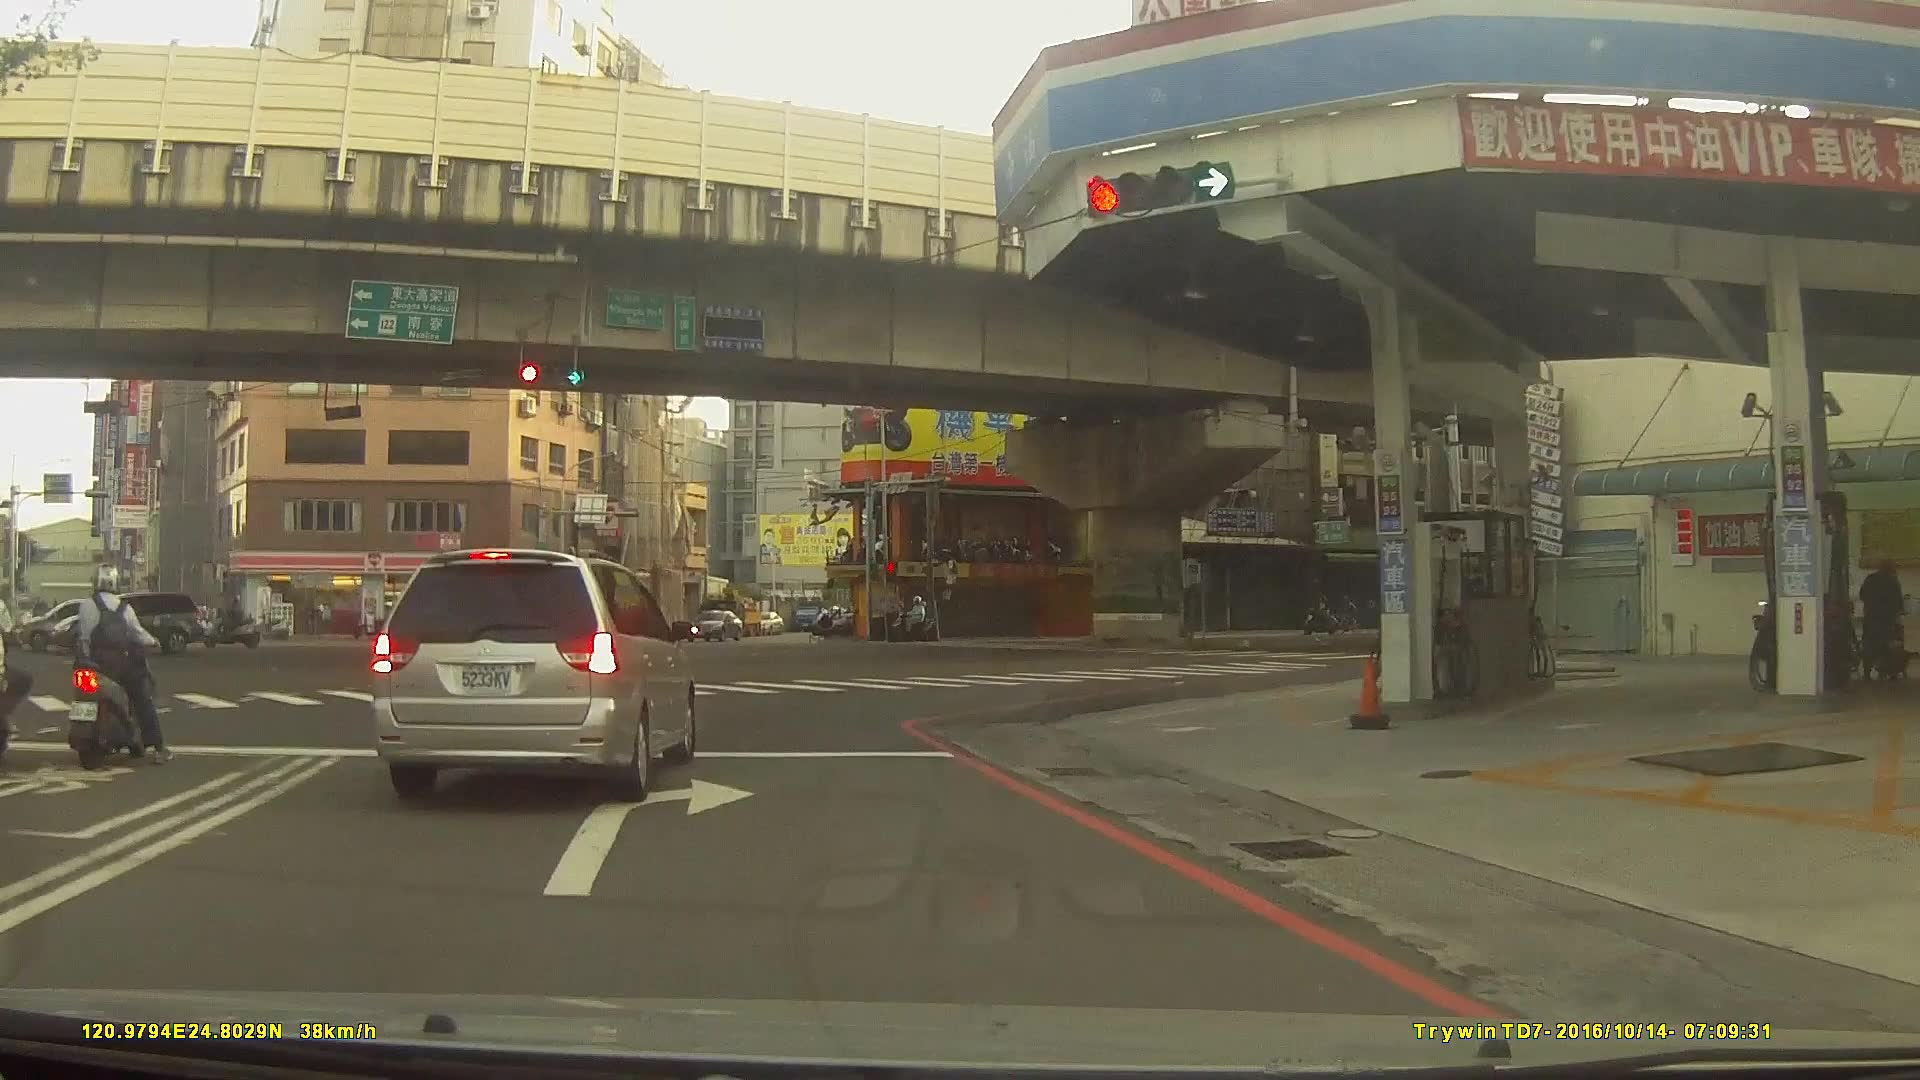rider: (70, 568, 173, 768), (1, 575, 29, 760), (199, 596, 263, 649), (891, 594, 935, 640)
vehicle: (367, 546, 696, 800), (48, 589, 203, 652), (689, 609, 745, 641), (543, 606, 605, 633)
